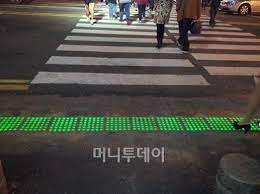guide_blocks: (1, 114, 260, 132)
